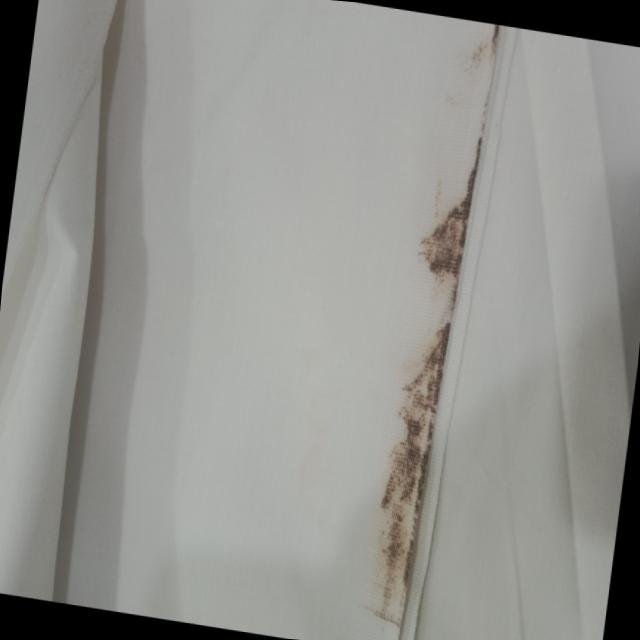stain: (354, 28, 501, 640)
